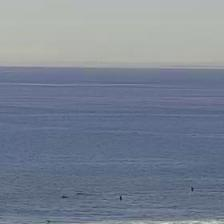surfer: (46, 219, 57, 223), (61, 195, 68, 199), (77, 192, 84, 195), (190, 187, 194, 192), (119, 196, 122, 201)
